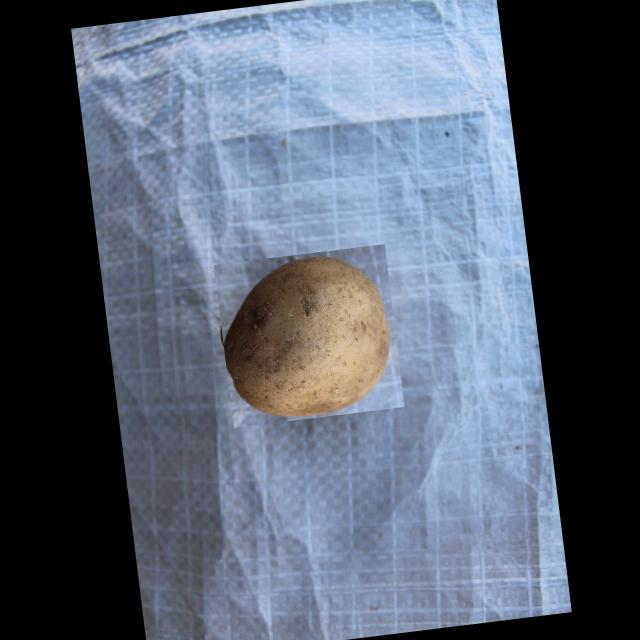Diseased-fungal potato: (212, 243, 404, 428)
